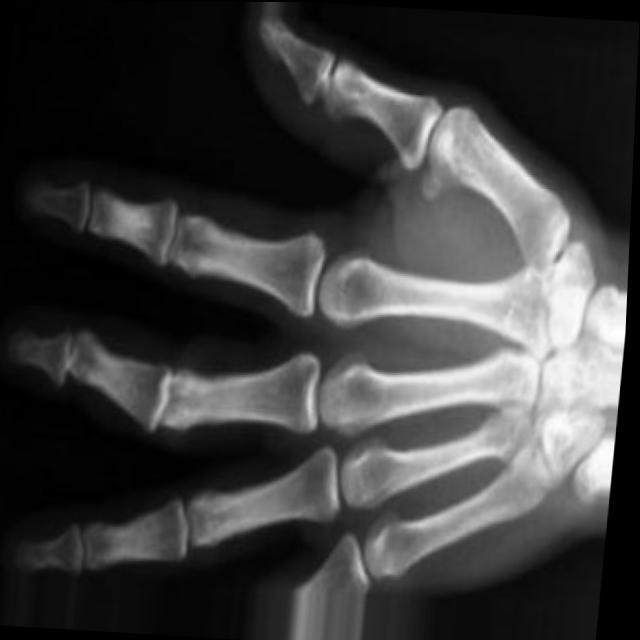fracture: (50, 320, 93, 404)
